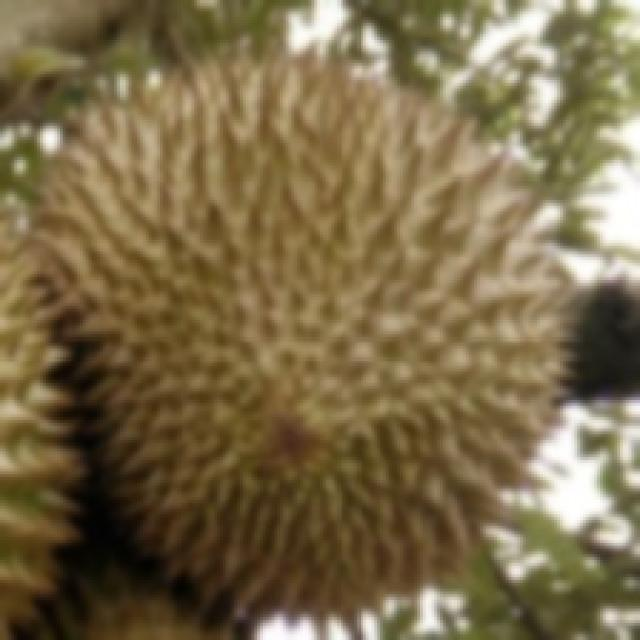d175: (36, 72, 558, 596)
